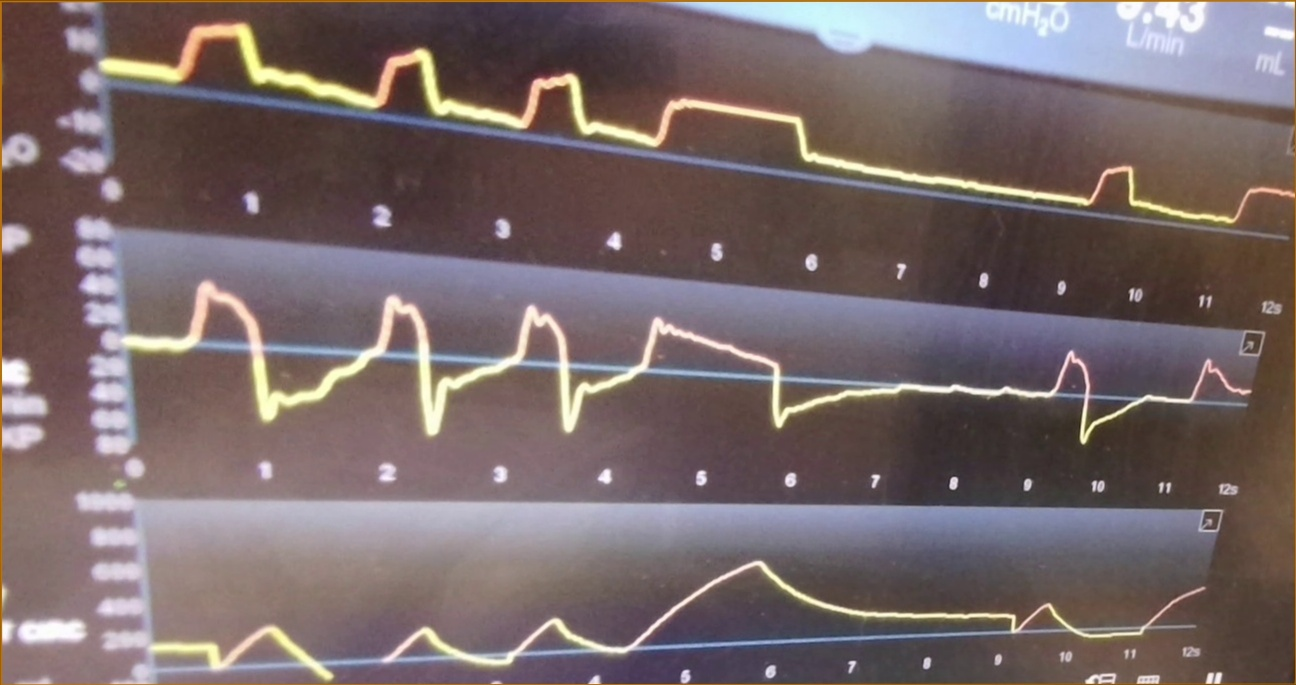Accumulation Flow: (132, 277, 1247, 458)
Volume: (154, 541, 1204, 683)
